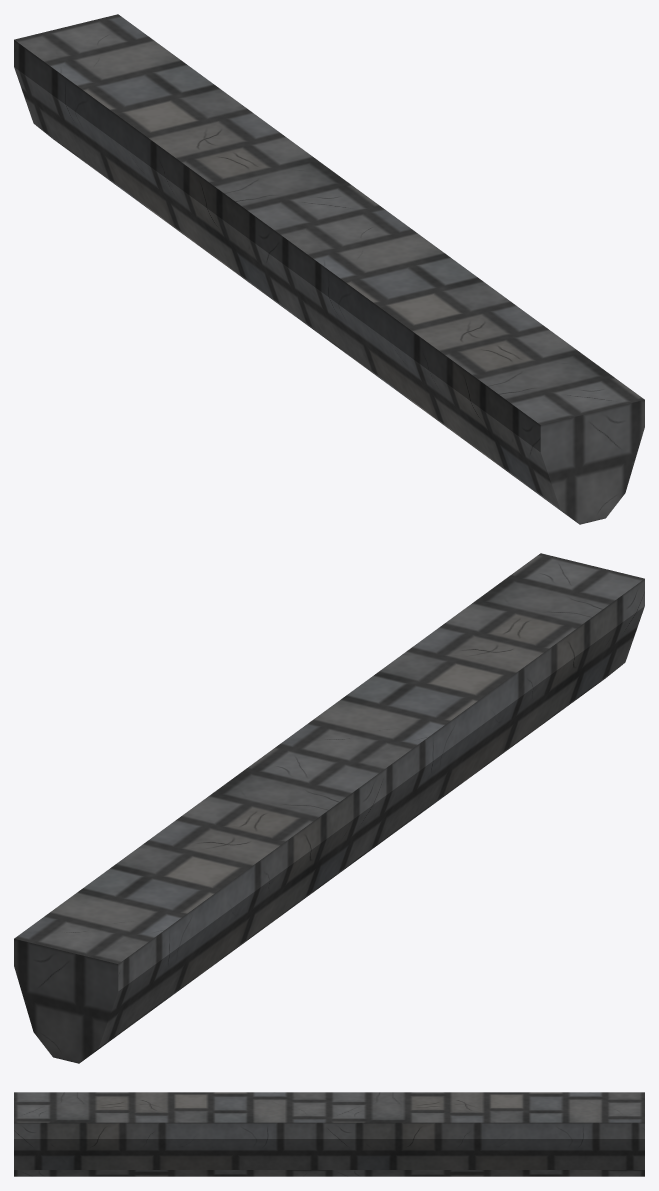
Rendered from kit_rib.glb.
The picture shows the model from 3 angles, top to bottom: view 1: azimuth 30°, elevation 25°; view 2: azimuth 150°, elevation 25°; view 3: azimuth 270°, elevation 25°; orthographic projection. The views are drawn at different scales.
Visible parts, largest first — view 1: kit_rib; view 2: kit_rib; view 3: kit_rib.
Boxes of the visible parts, <box> form: kit_rib: <box>14,14,644,524</box>; kit_rib: <box>14,553,644,1063</box>; kit_rib: <box>14,1092,644,1176</box>.
Size of the model in its own units: 0.32 by 0.32 by 2.8.
1 material, 1 textured.
